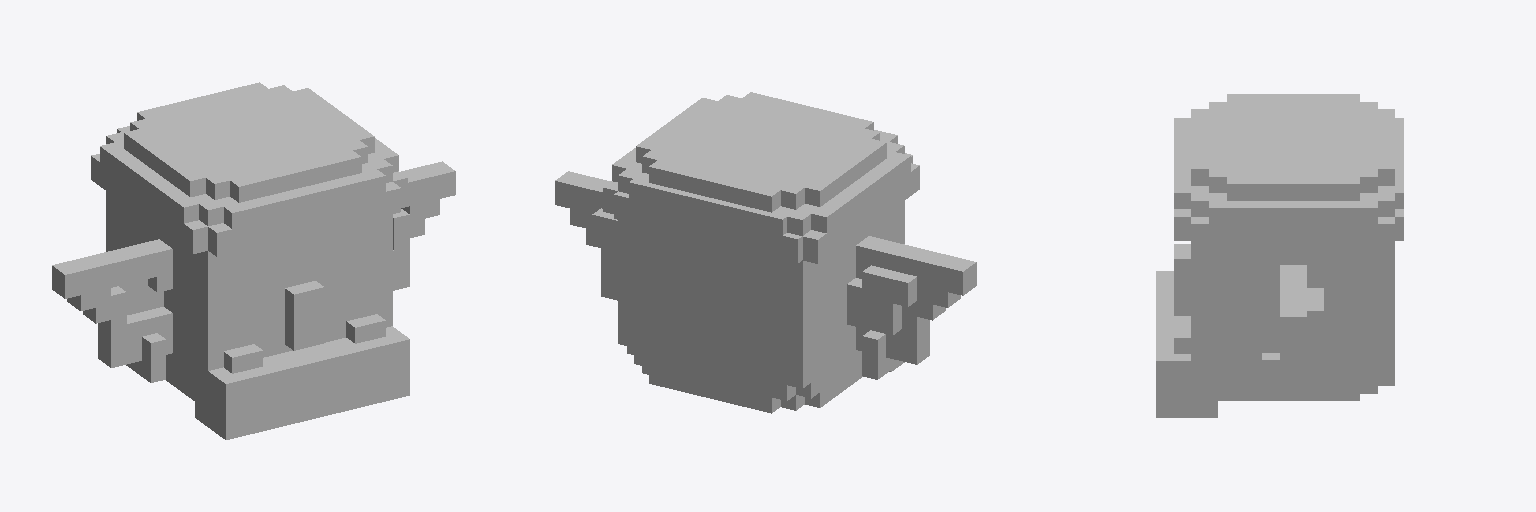
File: GoblinDeFaca-1-Screenshot_1 (1).obj
3 renders of one model, left to right at view 1: azimuth 30°, elevation 25°; view 2: azimuth 150°, elevation 25°; view 3: azimuth 270°, elevation 25°, orthographic.
Parts seen in each view (by area): view 1: Screenshot_1 (1); view 2: Screenshot_1 (1); view 3: Screenshot_1 (1).
Boxes of the visible parts, x1,y1,x2,y2 form: Screenshot_1 (1): [52, 82, 455, 439]; Screenshot_1 (1): [555, 92, 976, 413]; Screenshot_1 (1): [1156, 94, 1403, 417].
Bounding box in the file's own units: 5.2 × 2.9 × 2.8.